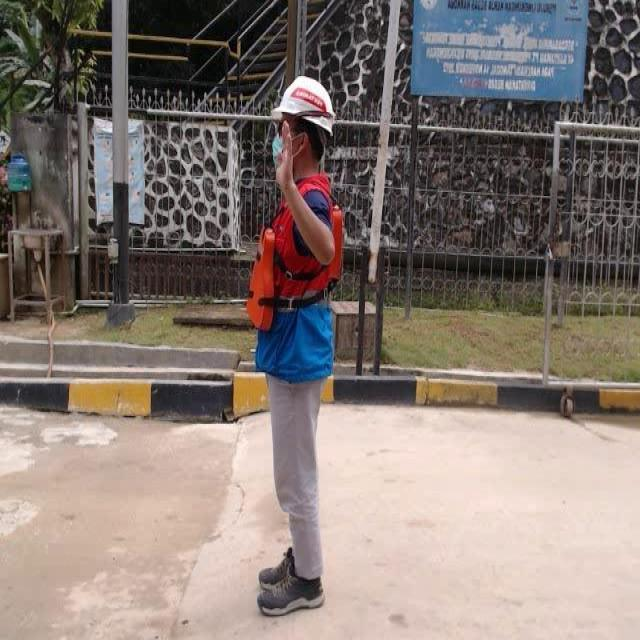helmet: (267, 69, 341, 146)
jacket: (236, 156, 358, 330)
